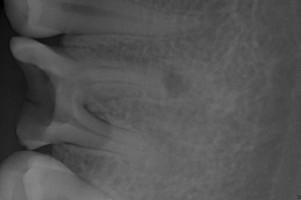Furcation Involvement: (165, 71, 191, 97)
